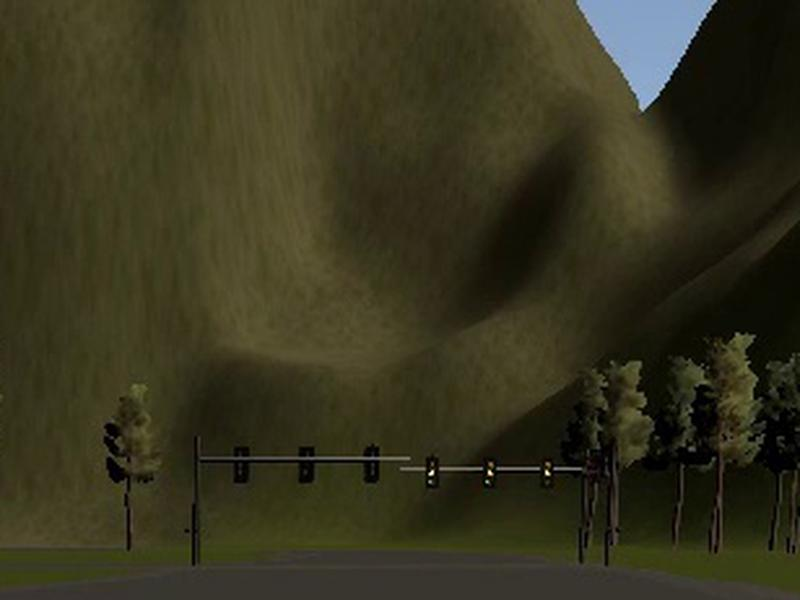Yellow: (425, 456, 440, 489), (541, 454, 555, 489), (483, 458, 498, 488)
